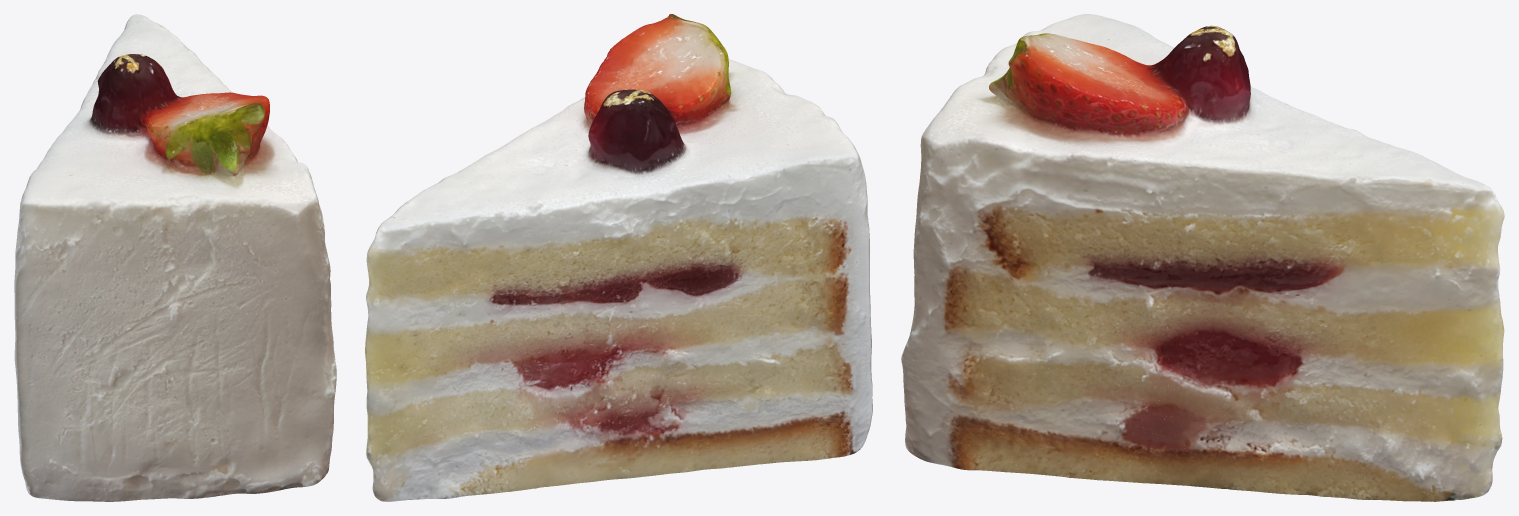
File: vanilla004.glb
3 renders of one model, left to right at view 1: azimuth 30°, elevation 25°; view 2: azimuth 150°, elevation 25°; view 3: azimuth 270°, elevation 25°, orthographic. The views are drawn at different scales.
Parts seen in each view (by area): view 1: Model, Model_material0_0.001; view 2: Model, Model_material0_0.001; view 3: Model, Model_material0_0.001.
Part boxes in pixels (x1,y1,x2,y2): Model: (14,16,336,501); Model_material0_0.001: (52,14,336,488); Model: (365,14,872,501); Model_material0_0.001: (365,14,775,501); Model: (901,14,1504,501); Model_material0_0.001: (903,26,1504,501).
Size of the model in its own units: 0.1441 by 0.1574 by 0.2095.
Materials: 1 (1 with a texture image).
